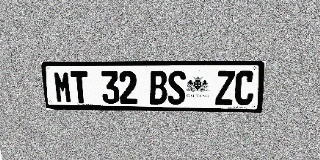2: (119, 71, 137, 104)
3: (101, 71, 120, 104)
B: (149, 71, 167, 104)
C: (234, 71, 255, 105)
M: (53, 71, 72, 103)
S: (168, 71, 186, 105)
T: (70, 71, 89, 103)
Z: (215, 71, 235, 105)
